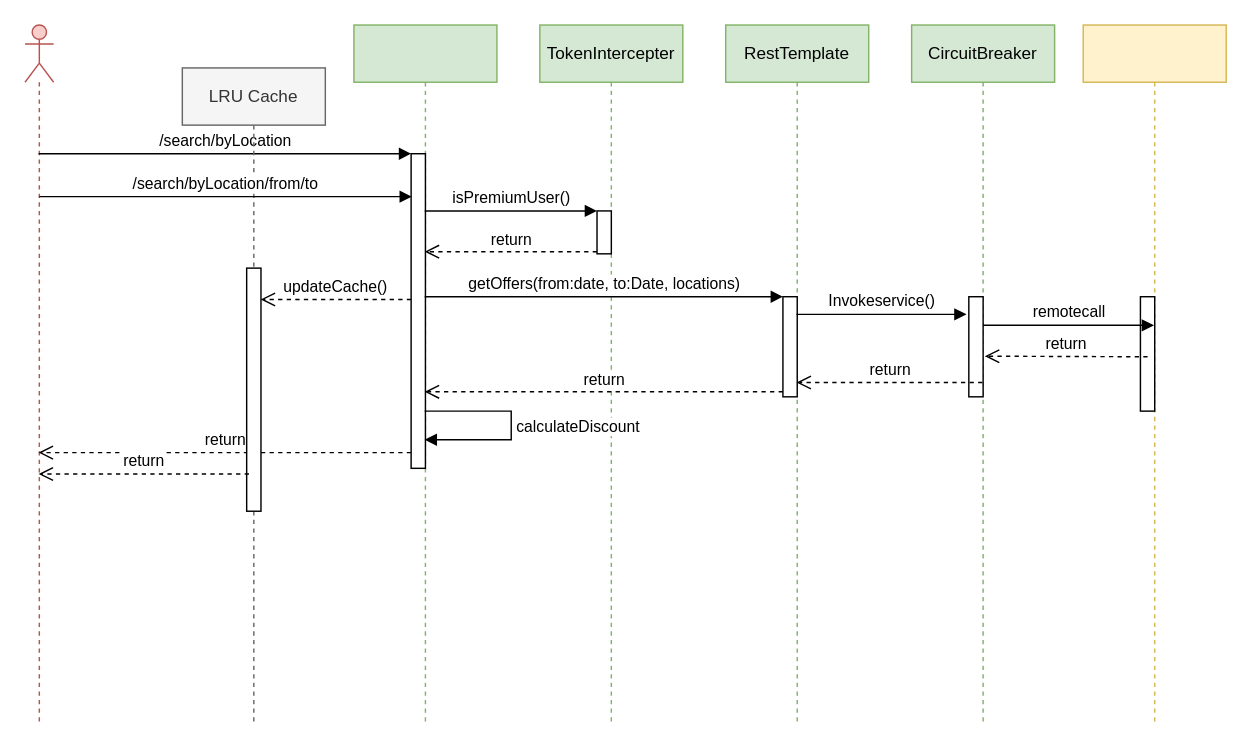
The diagram is 1251 pixels wide and 751 high, and some of its shapes have lost their labels. The centre of each missing label's shape, as x and y in pixels:
"OffersAPI" goes at pixel 1154 375.
"SearchController" goes at pixel 424 375.
